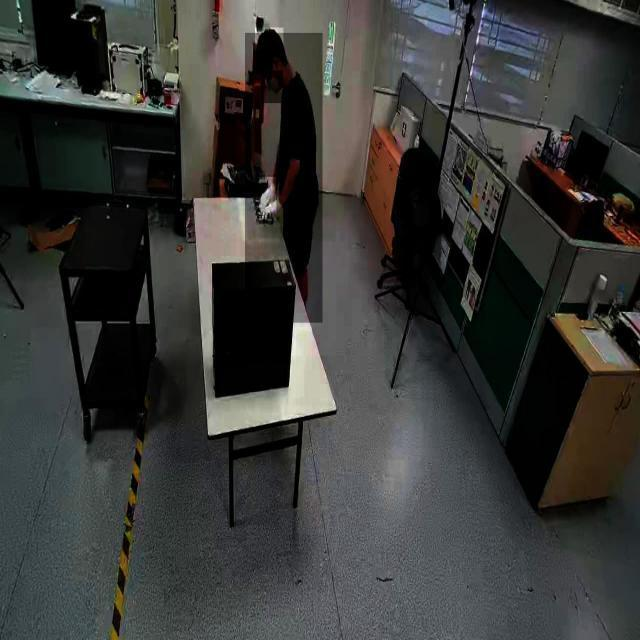gloves: (259, 177, 277, 220), (264, 200, 286, 228)
